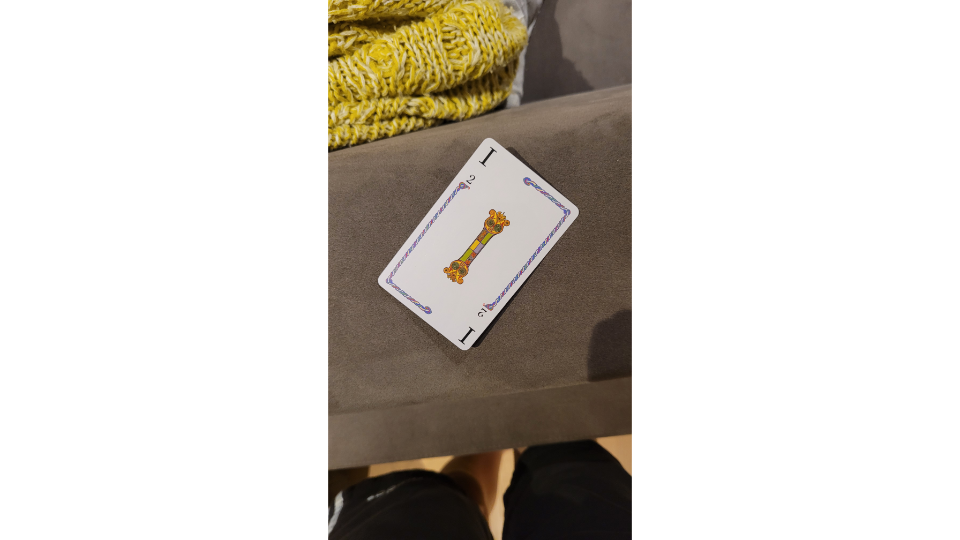I: (373, 135, 583, 356)
